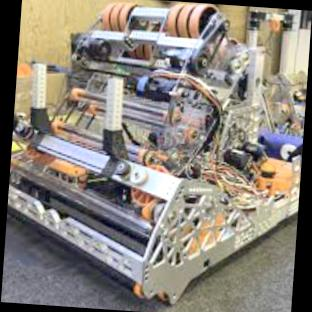Robot: (8, 2, 300, 303)
